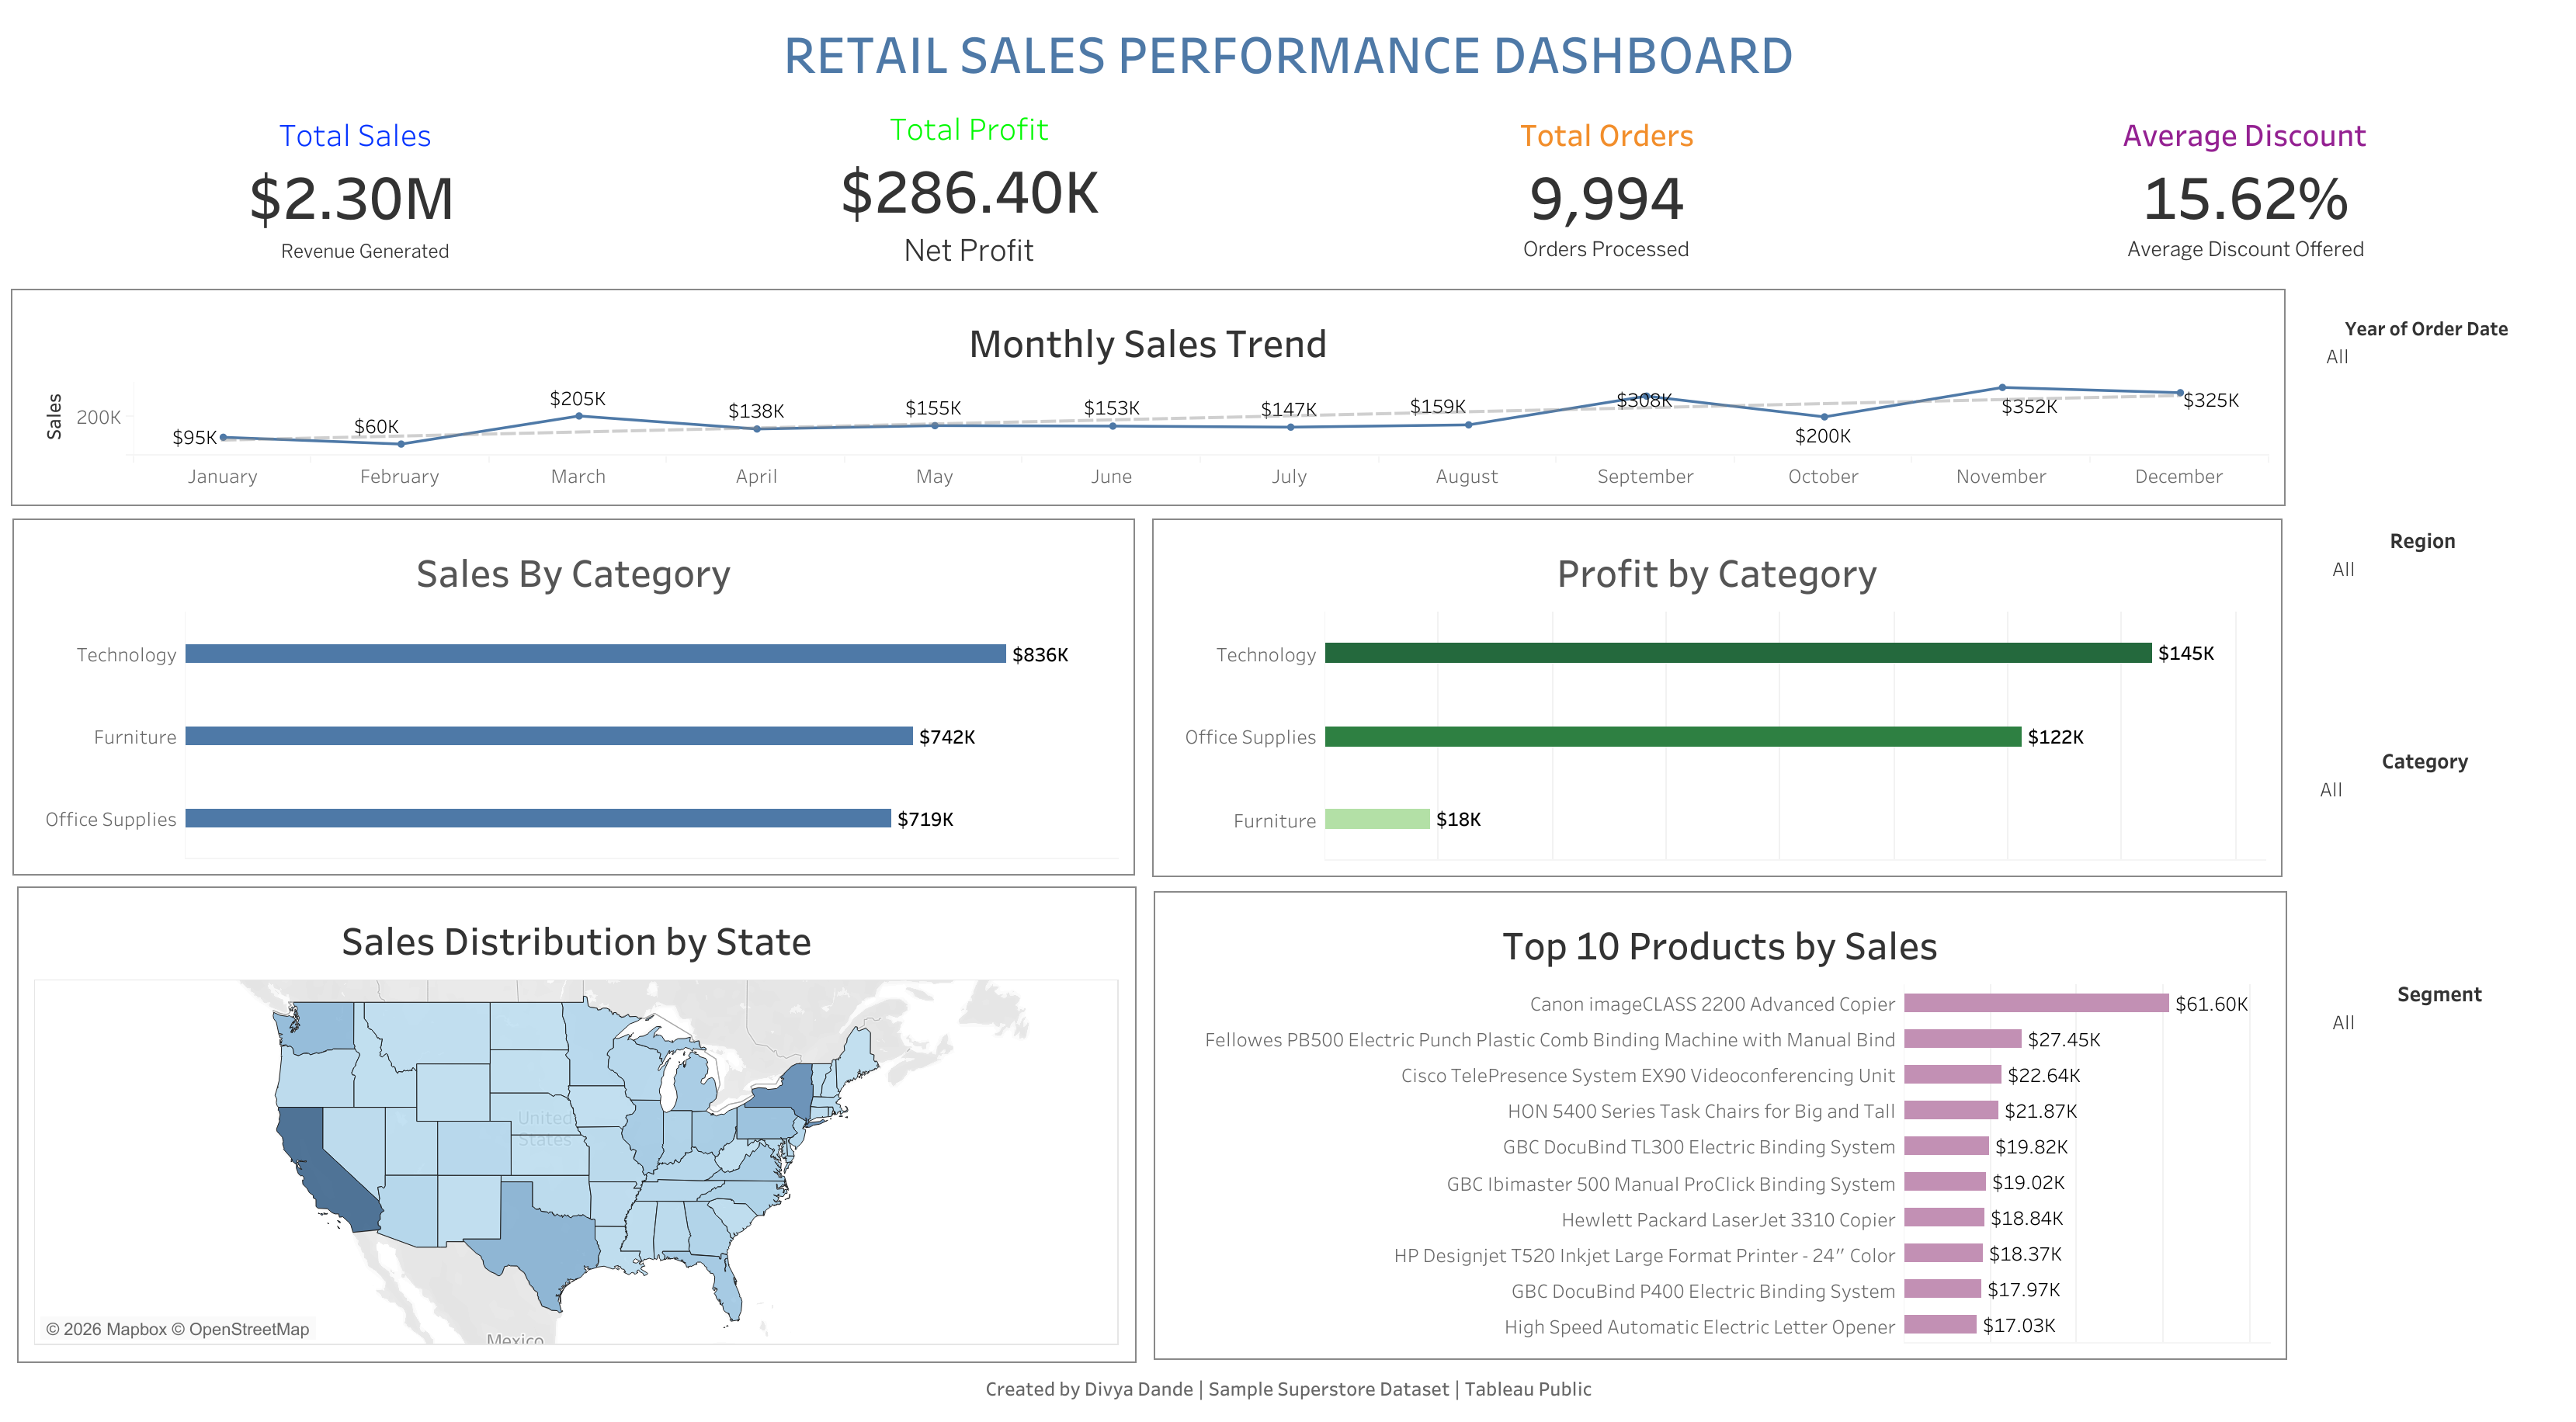

Layout of this report page (visuals, bound fields, positions):
{"tool":"tableau","page":{"name":"Retail Sales Performance Dashboard - Final","canvas":[1000,1000],"units":"permille","ordinal":2},"visuals":[{"type":"title","box":[5.5,8.2,989,53]},{"type":"worksheet","title":"TOTAL SALES","mark":"Automatic","box":[5.5,61.2,247.8,125.4]},{"type":"worksheet","title":"TOTAL PROFIT","mark":"Automatic","box":[253.3,61.2,247.1,125.4]},{"type":"worksheet","title":"TOTAL ORDERS","mark":"Automatic","box":[500.3,61.2,247.1,125.4]},{"type":"worksheet","title":"AVERAGE DISCOUNT","mark":"Automatic","box":[747.4,61.2,247.1,125.4]},{"type":"worksheet","title":"Monthly Sales Trend","mark":"Automatic","rows":["Sales"],"cols":["Order Date"],"box":[1.4,197.8,888.1,162.9]},{"type":"filter","title":"Monthly Sales Trend","param":"[federated.1nxx1fg1jt879p1a4r4av07llaxv].[yr:Order Date:ok]","box":[892.2,203.4,98.8,78.7]},{"type":"filter","title":"Sales Distribution by State","param":"[federated.1nxx1fg1jt879p1a4r4av07llaxv].[none:Region:nk]","box":[894.7,350.7,90.7,129.5]},{"type":"worksheet","title":"Sales By Category","mark":"Automatic","rows":["Category"],"cols":["Sales"],"box":[2.1,358.4,441.3,261.8]},{"type":"worksheet","title":"Profit by Category","mark":"Automatic","rows":["Category"],"cols":["Profit"],"box":[444.1,358.4,444.8,262.9]},{"type":"filter","title":"Profit by Category","param":"[federated.1nxx1fg1jt879p1a4r4av07llaxv].[none:Category:nk]","box":[889.9,505.6,102.5,110.1]},{"type":"worksheet","title":"Sales Distribution by State","mark":"Automatic","box":[3.4,617.7,440.5,345.6]},{"type":"worksheet","title":"Top 10 Products by Sales","mark":"Automatic","rows":["Product Name"],"cols":["Sales"],"box":[444.6,620.8,446,340.5]},{"type":"filter","title":"Top 10 Products by Sales","param":"[federated.1nxx1fg1jt879p1a4r4av07llaxv].[none:Segment:nk]","box":[894.7,669.7,103.9,110.1]},{"type":"text","box":[5.5,959.2,989,32.7]}]}

Visuals, with their boxes on the dashboard's canvas, which has no fixed pixel size, in thousandths of its width and height (x1, y1, x2, y2). These are canvas units, not pixel positions in the 2576x1422 screenshot, which may show the page scaled, cropped or inside an application window:
title: [left=6, top=8, right=994, bottom=61]
"TOTAL SALES" worksheet: [left=6, top=61, right=253, bottom=187]
"TOTAL PROFIT" worksheet: [left=253, top=61, right=500, bottom=187]
"TOTAL ORDERS" worksheet: [left=500, top=61, right=747, bottom=187]
"AVERAGE DISCOUNT" worksheet: [left=747, top=61, right=994, bottom=187]
"Monthly Sales Trend" worksheet: [left=1, top=198, right=890, bottom=361]
"Monthly Sales Trend" filter: [left=892, top=203, right=991, bottom=282]
"Sales Distribution by State" filter: [left=895, top=351, right=985, bottom=480]
"Sales By Category" worksheet: [left=2, top=358, right=443, bottom=620]
"Profit by Category" worksheet: [left=444, top=358, right=889, bottom=621]
"Profit by Category" filter: [left=890, top=506, right=992, bottom=616]
"Sales Distribution by State" worksheet: [left=3, top=618, right=444, bottom=963]
"Top 10 Products by Sales" worksheet: [left=445, top=621, right=891, bottom=961]
"Top 10 Products by Sales" filter: [left=895, top=670, right=999, bottom=780]
text: [left=6, top=959, right=994, bottom=992]
